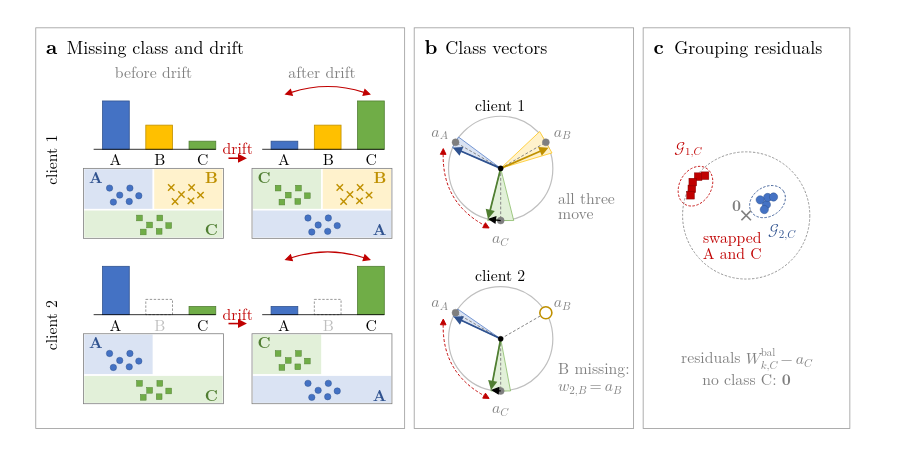
Some shapes in this 898 by 456 pixel diagram are drawn without their labels. The centre of each missing label's shape, as x and y in pixels:
"𝑟 1,𝐶" belongs at pixel 500 193.
"𝑟 2,𝐶" belongs at pixel 500 364.
